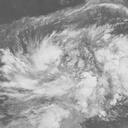cyclone: (8, 23, 122, 122)
